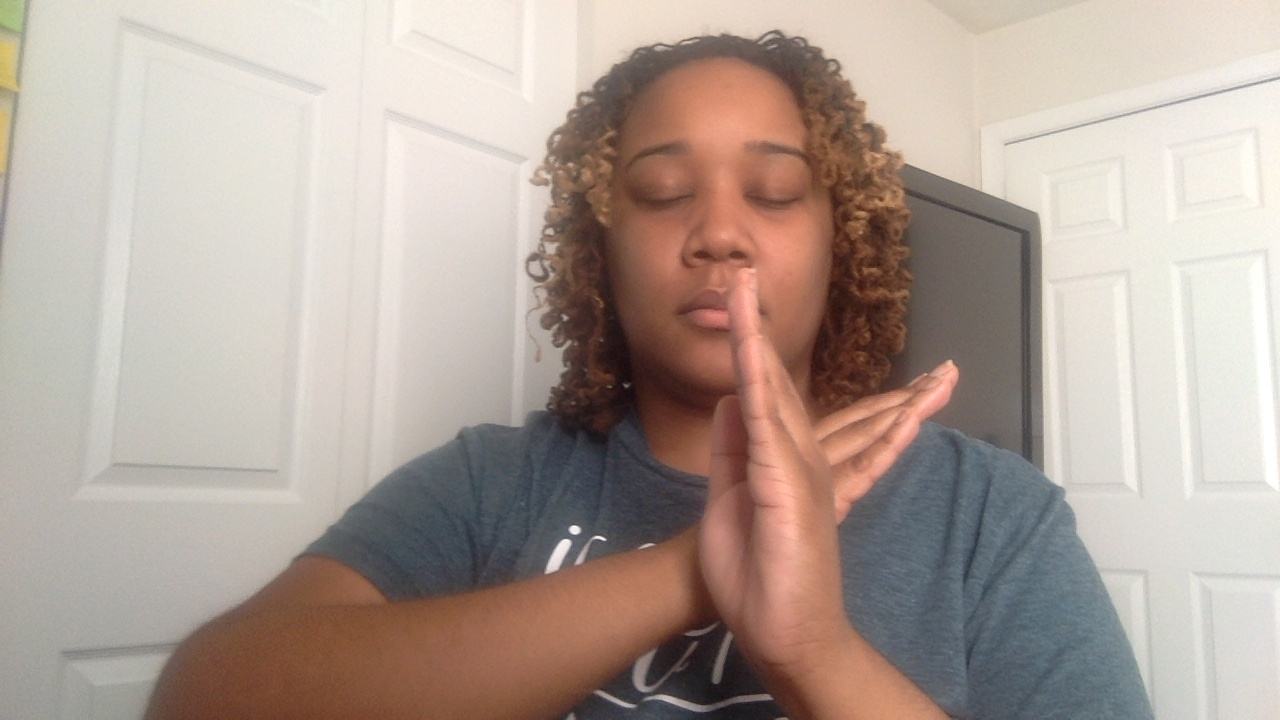quiet: (695, 267, 1009, 720)
